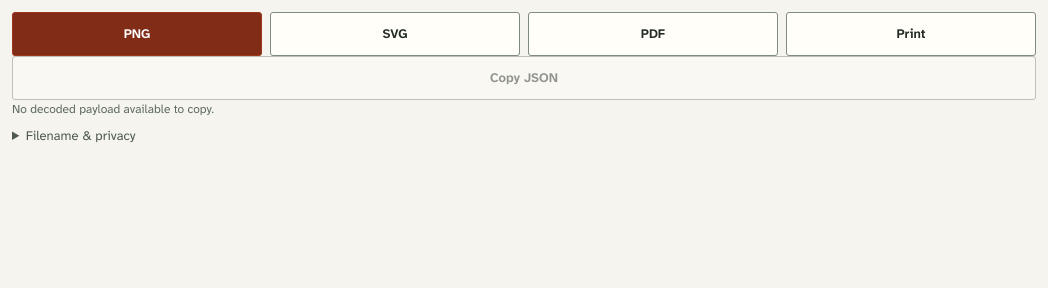
PreviewActions filename privacy toggle › has correct aria-describedby and dynamic status text
Click the heading "Filename & privacy".
click(81, 136)  # box [26, 127, 136, 144]
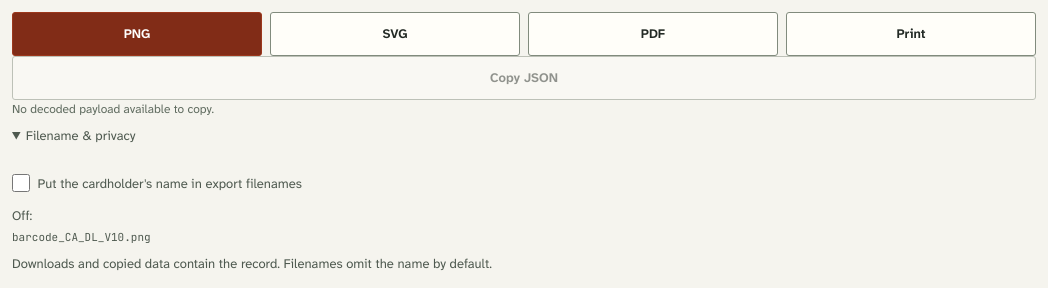
Result: the checkbox labelled "Put the cardholder's name in export filenames" is not checked
Result: the text "Off: barcode_CA_DL_V10.png" is shown at [12, 206, 151, 244]
Click the checkbox labelled "Put the cardholder's name in export filenames".
click(21, 183)  # box [12, 174, 30, 192]
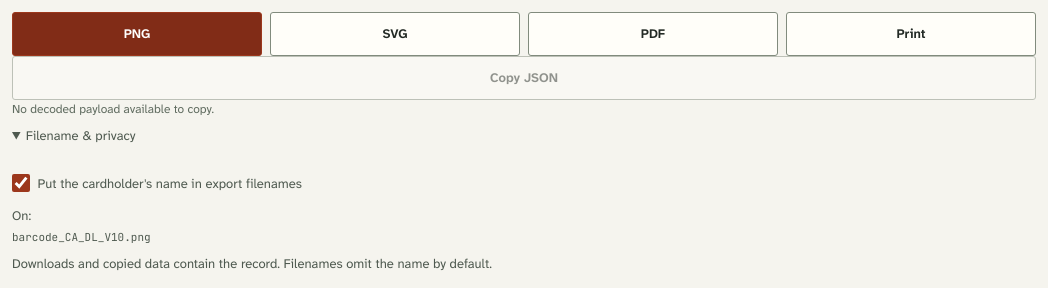
Result: the checkbox labelled "Put the cardholder's name in export filenames" is checked at [12, 174, 30, 192]
Result: the text "On: barcode_CA_DL_V10.png" is shown at [12, 206, 151, 244]
